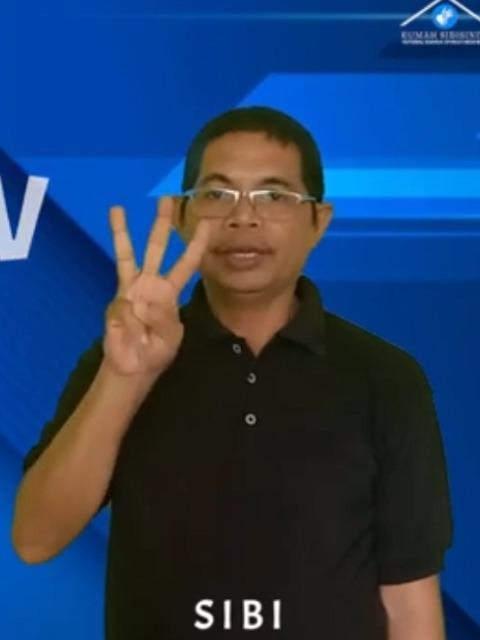W: (97, 193, 213, 381)
